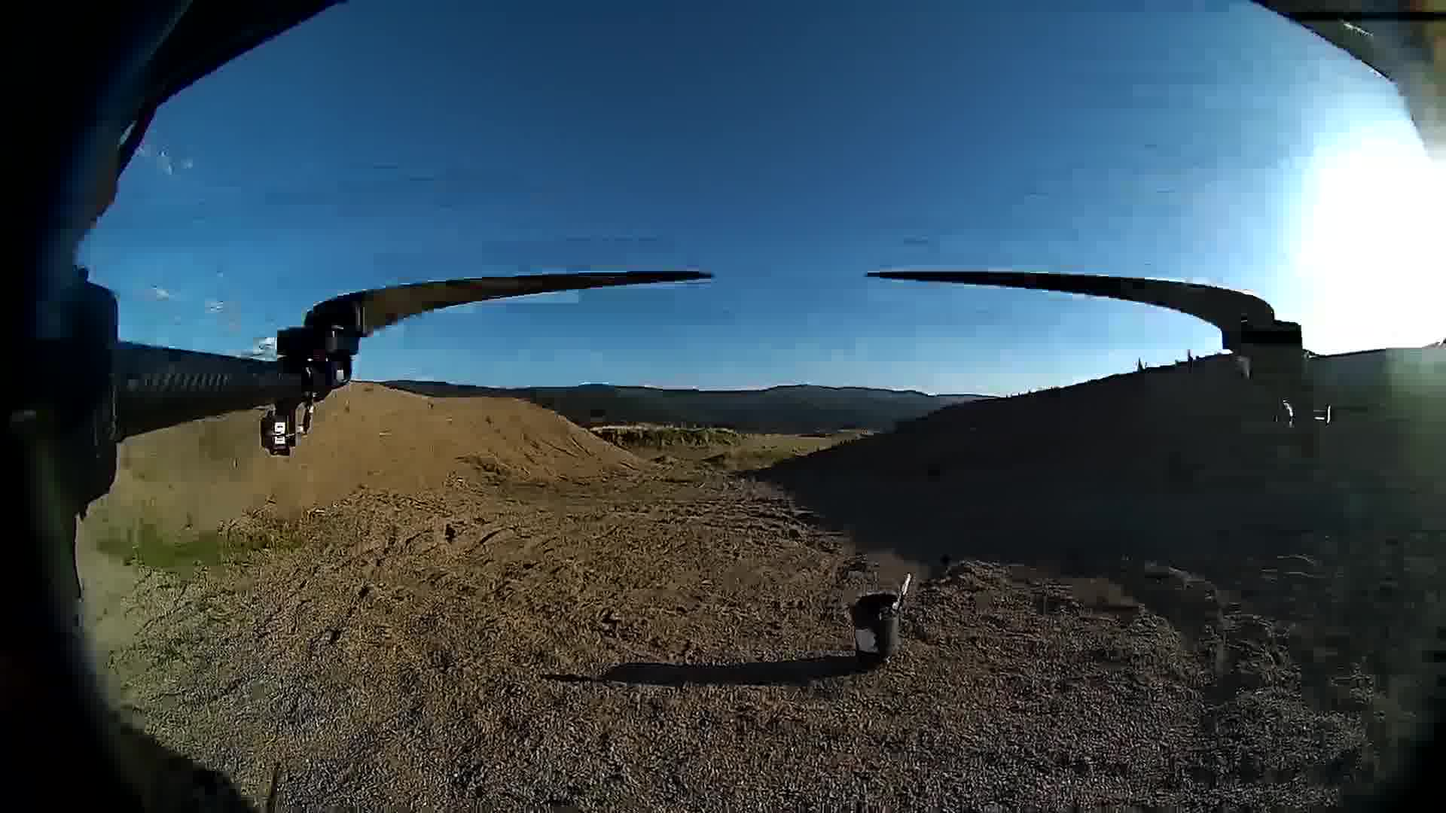Target: (853, 629, 877, 651)
